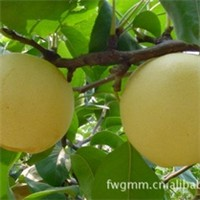pear: (119, 51, 200, 166), (1, 52, 73, 153)
